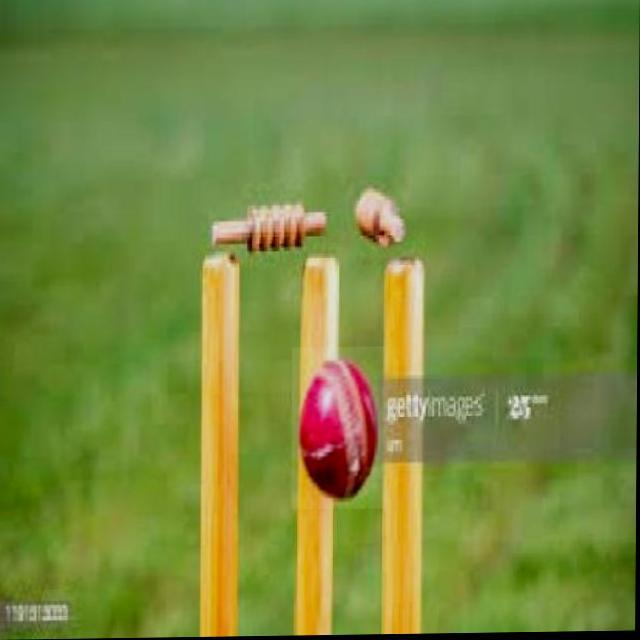-: (292, 348, 389, 510)
